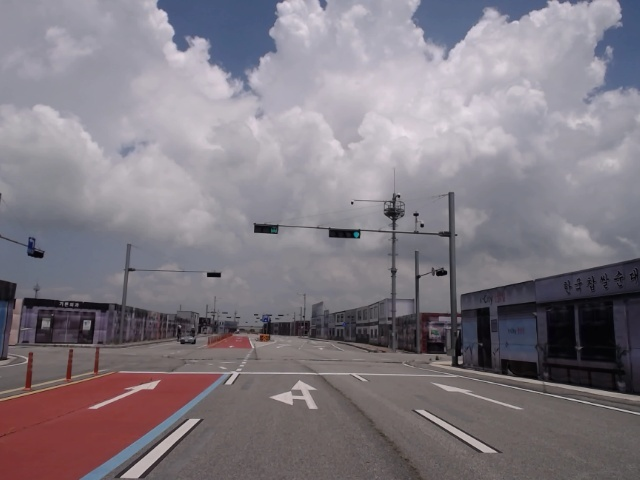straight_green_4: (330, 228, 362, 239)
